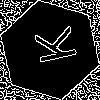K: (25, 25, 78, 68)
